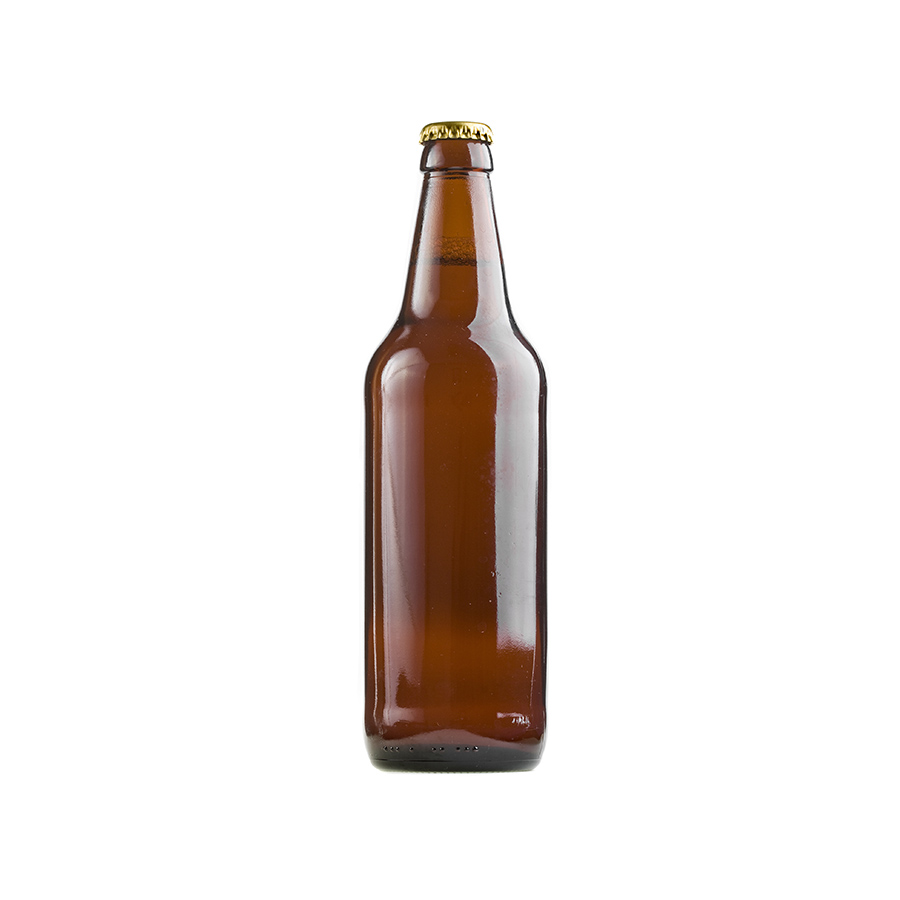glass_bottle: (352, 118, 552, 789)
